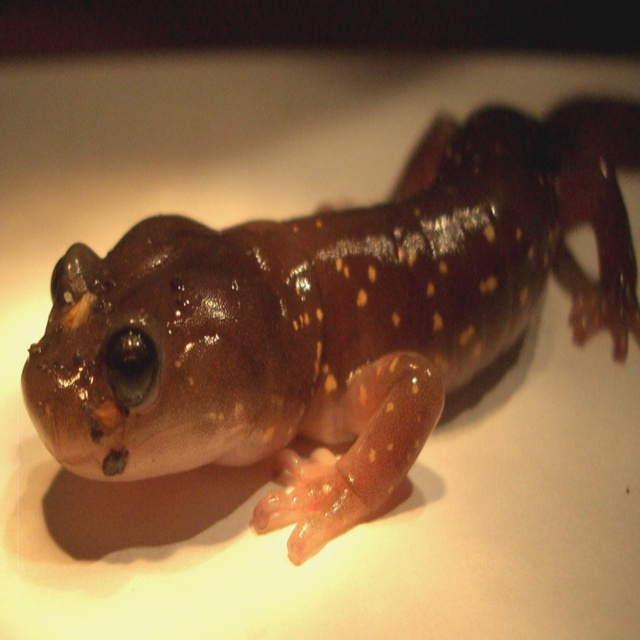Lizard: (21, 102, 637, 568)
